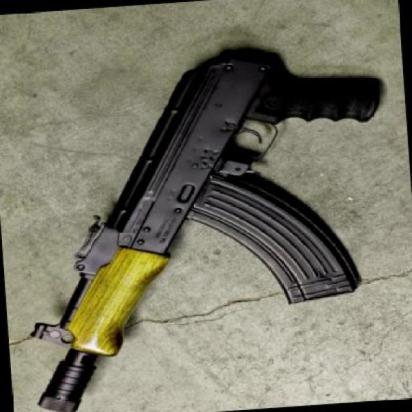Gun: (0, 24, 405, 412)
